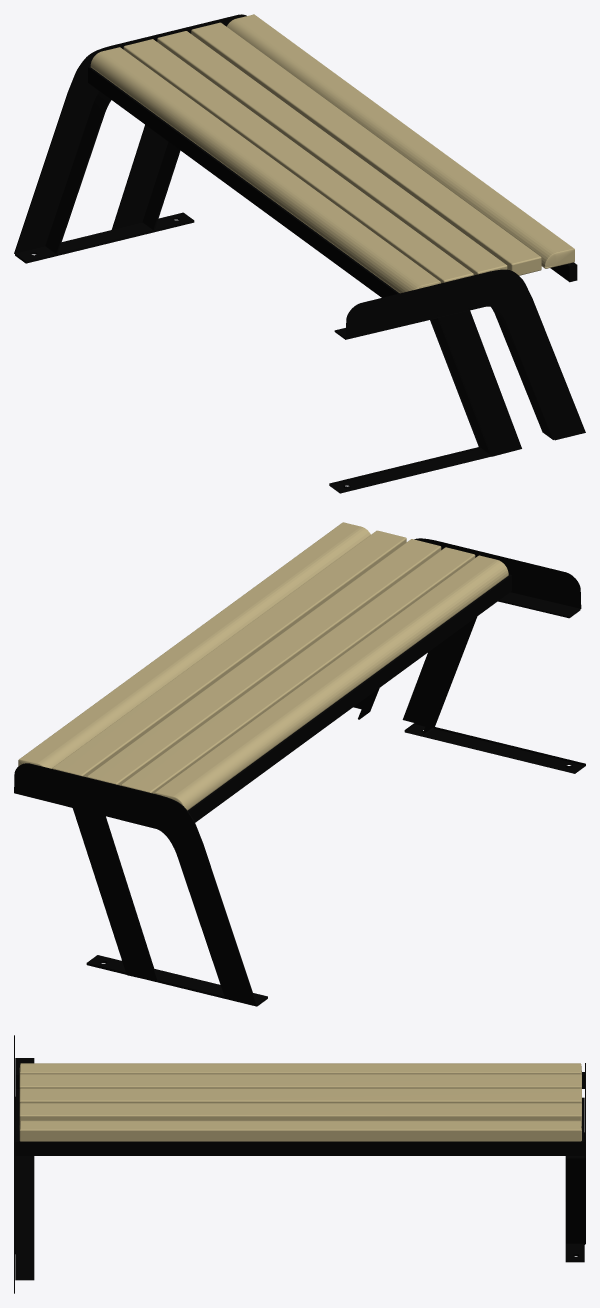
Rendered from Bench 2.fbx.
3 views of the same model, one above another, from view 1: azimuth 30°, elevation 25°; view 2: azimuth 150°, elevation 25°; view 3: azimuth 270°, elevation 25° (orthographic). The views are drawn at different scales.
Visible parts, largest first — view 1: ChamferB11, ChamferBo7, ChamferBo8, Line05, ChamferBo9, ChamferB10, Line01, Box02, Line06, Line02, Line04, Box03 (+4 smaller); view 2: ChamferB11, Line01, ChamferBo7, ChamferBo9, ChamferBo8, ChamferB10, Box02, Line02, Line05, Box04, Line06, Box03 (+2 smaller); view 3: ChamferBo8, ChamferBo7, ChamferBo9, Box01, ChamferB10, ChamferB11, Line08, Line03, Box03.
Part boxes in pixels (x1,y1,x2,y2): ChamferB11: [90, 47, 440, 293]; ChamferBo7: [191, 22, 541, 275]; ChamferBo8: [226, 14, 574, 268]; Line05: [345, 269, 585, 440]; ChamferBo9: [157, 31, 507, 275]; ChamferB10: [123, 39, 473, 283]; Line01: [14, 14, 246, 253]; Box02: [88, 66, 399, 297]; Line06: [437, 308, 521, 456]; Line02: [111, 124, 168, 229]; Line04: [45, 91, 111, 253]; Box03: [15, 212, 194, 263]; ChamferB11: [154, 555, 508, 810]; Line01: [14, 763, 256, 1005]; ChamferBo7: [52, 530, 406, 777]; ChamferBo9: [87, 539, 441, 785]; ChamferBo8: [18, 522, 370, 768]; ChamferB10: [121, 547, 475, 793]; Box02: [187, 574, 511, 822]; Line02: [73, 807, 158, 981]; Line05: [353, 538, 581, 709]; Box04: [404, 722, 585, 773]; Line06: [402, 626, 463, 724]; Box03: [86, 955, 267, 1006]; ChamferBo8: [19, 1120, 581, 1141]; ChamferBo7: [19, 1103, 581, 1125]; ChamferBo9: [19, 1088, 581, 1103]; Box01: [15, 1139, 584, 1155]; ChamferB10: [19, 1074, 581, 1088]; ChamferB11: [19, 1063, 581, 1074]; Line08: [15, 1058, 34, 1280]; Line03: [566, 1132, 584, 1244]; Box03: [565, 1202, 584, 1262].
Size of the model in its own units: 166 by 120 by 382.
